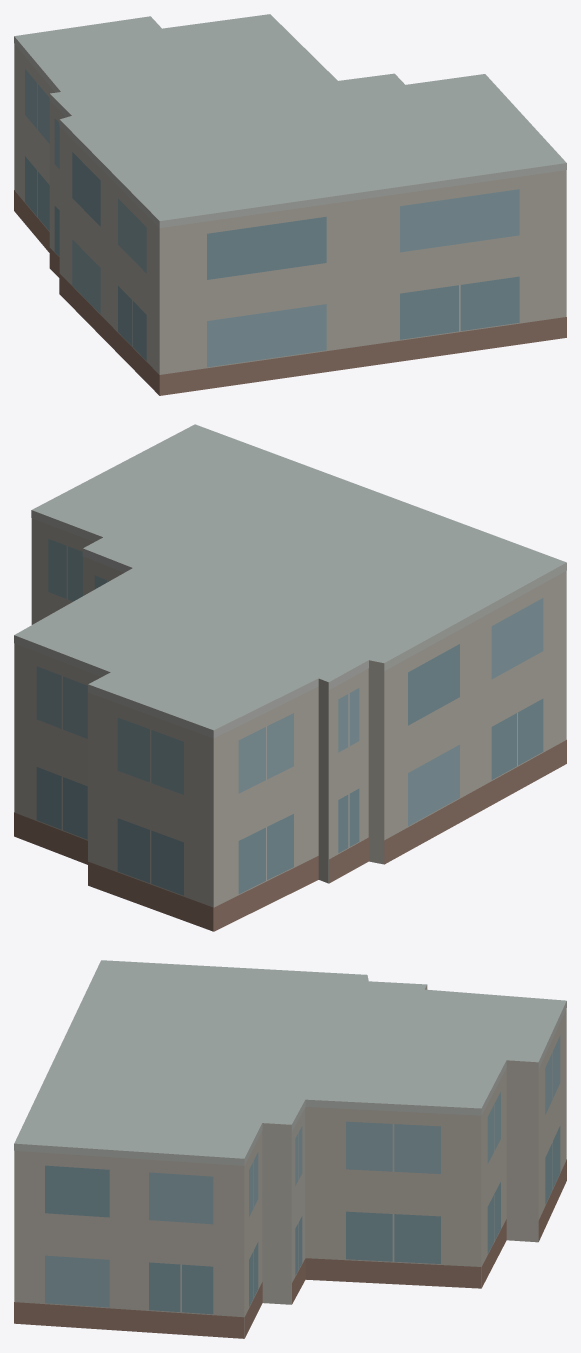
Rendered from survey-upis-32956701.glb.
The picture shows the model from 3 angles, top to bottom: view 1: azimuth 30°, elevation 25°; view 2: azimuth 150°, elevation 25°; view 3: azimuth 270°, elevation 25°; orthographic projection. The views are drawn at different scales.
Parts seen in each view (by area): view 1: survey-upis-32956701.tmp; view 2: survey-upis-32956701.tmp; view 3: survey-upis-32956701.tmp.
Part boxes in pixels (x1,y1,x2,y2): survey-upis-32956701.tmp: (14,14,566,395); survey-upis-32956701.tmp: (14,424,566,931); survey-upis-32956701.tmp: (14,960,566,1338).
Bounding box in the file's own units: 14.45 × 6.1 × 16.98.
